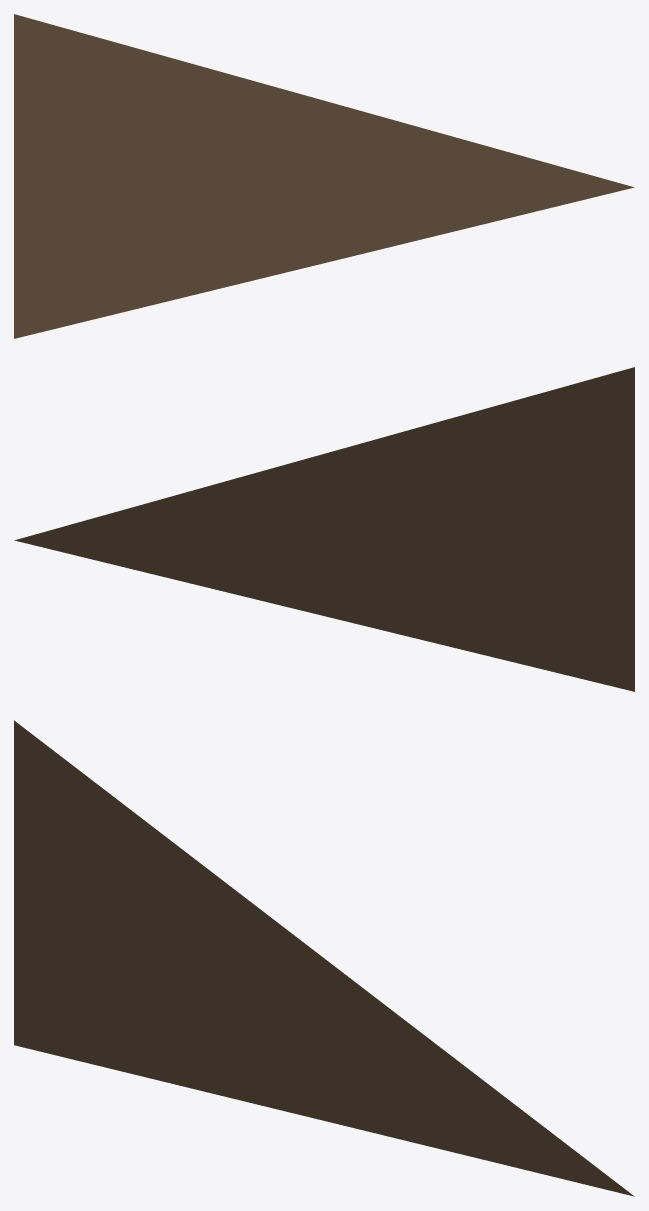
File: Slope_Side_L_Base.fbx
3 renders of one model, top to bottom at view 1: azimuth 30°, elevation 25°; view 2: azimuth 150°, elevation 25°; view 3: azimuth 330°, elevation 25°, orthographic.
Visible parts, largest first — view 1: Slope_Side_L_01; view 2: Slope_Side_L_01; view 3: Slope_Side_L_01.
Boxes of the visible parts, bbox=[...] form: Slope_Side_L_01: bbox=[14, 14, 634, 338]; Slope_Side_L_01: bbox=[14, 367, 634, 691]; Slope_Side_L_01: bbox=[14, 720, 634, 1196].
Bounding box in the file's own units: 200 × 100 × 0.
